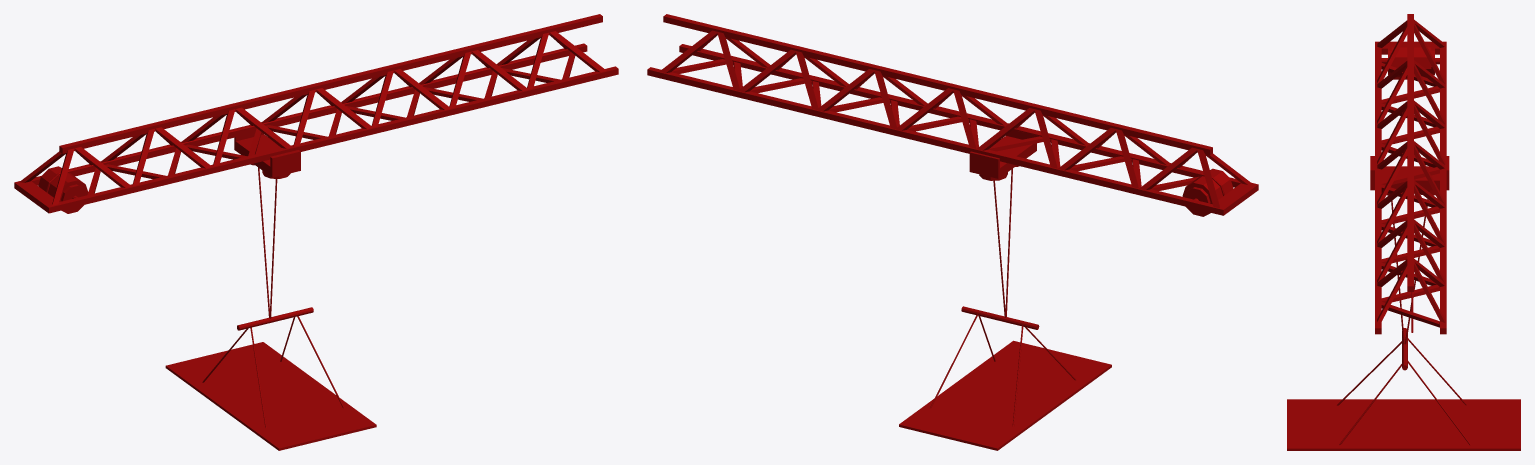
Rendered from grue_planche.fbx.
3 renders of one model, left to right at view 1: azimuth 30°, elevation 25°; view 2: azimuth 150°, elevation 25°; view 3: azimuth 270°, elevation 25°, orthographic. The views are drawn at different scales.
Parts seen in each view (by area): view 1: grue_planche; view 2: grue_planche; view 3: grue_planche.
Boxes of the visible parts, <box> form: grue_planche: <box>14,14,618,450</box>; grue_planche: <box>647,14,1258,450</box>; grue_planche: <box>1287,14,1520,450</box>.
Size of the model in its own units: 1806 by 906 by 622.
